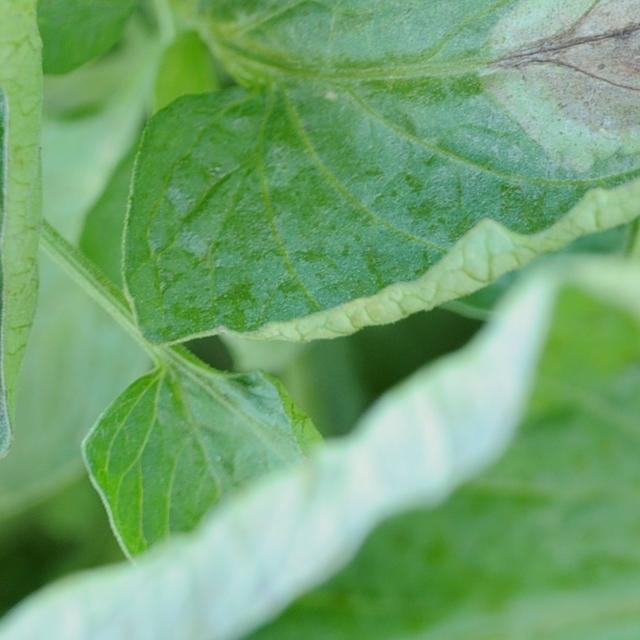Tomato leaf late blight: (84, 0, 640, 325)
